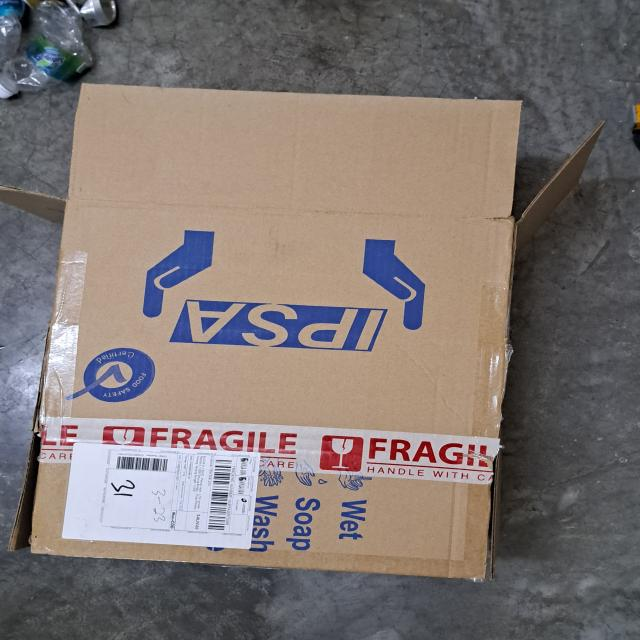can: (27, 0, 118, 26)
cardboard: (0, 81, 608, 585)
plastic bottle: (0, 7, 95, 92), (0, 0, 25, 72)
plastic bottle cap: (0, 83, 12, 99)
